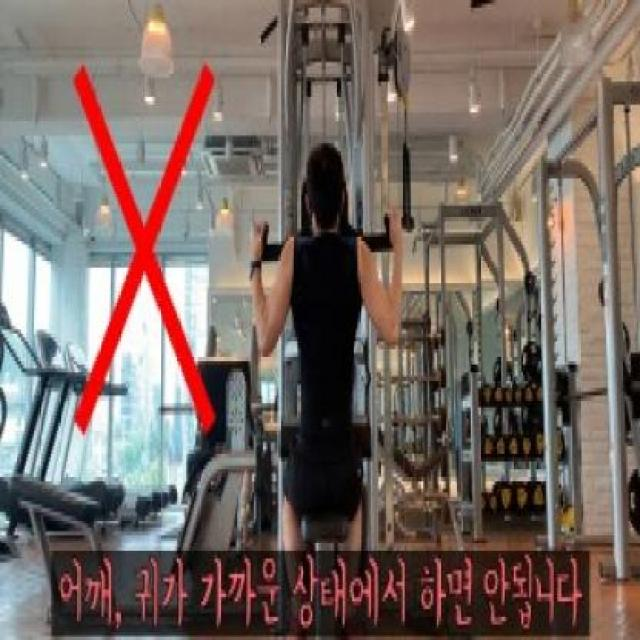Lat Pull Down: (232, 0, 418, 555)
